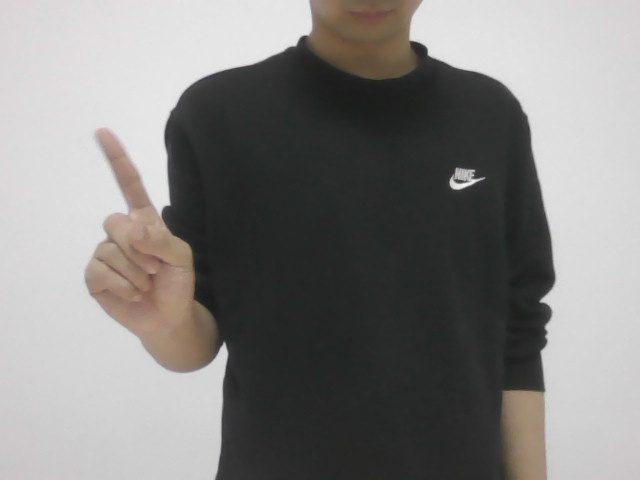what: (65, 116, 204, 349)
